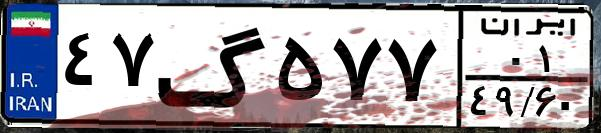0: (560, 70, 590, 125), (508, 27, 537, 80)
1: (537, 27, 568, 80)
4: (57, 26, 110, 100), (470, 70, 495, 125)
5: (270, 28, 330, 110)
6: (535, 70, 560, 125)
7: (385, 28, 445, 110), (330, 28, 385, 110), (110, 28, 156, 98)
9: (495, 70, 520, 125)
گ: (156, 12, 270, 120)
